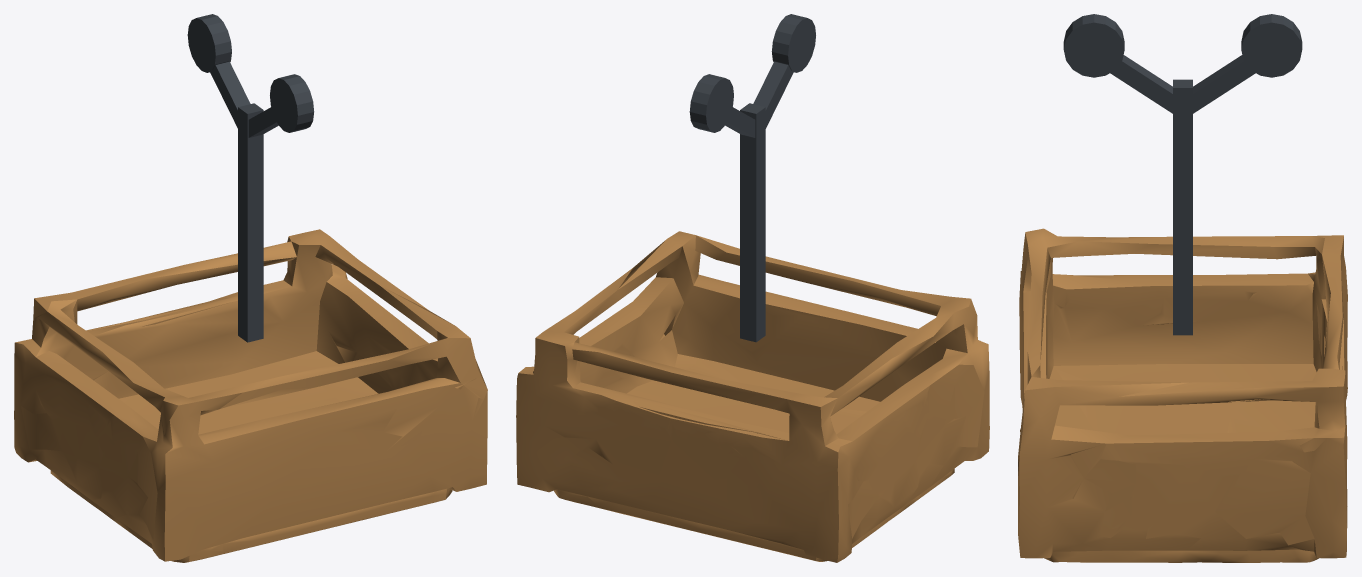
The model's file is PROP_01_game.glb.
The picture shows the model from 3 angles, left to right: view 1: azimuth 30°, elevation 25°; view 2: azimuth 150°, elevation 25°; view 3: azimuth 270°, elevation 25°; orthographic projection. The views are drawn at different scales.
Visible parts, largest first — view 1: PROP_01; view 2: PROP_01; view 3: PROP_01.
Boxes of the visible parts, x1=… form: PROP_01: x1=14, y1=14, x2=487, y2=562; PROP_01: x1=516, y1=14, x2=989, y2=562; PROP_01: x1=1018, y1=14, x2=1347, y2=562.
Bounding box in the file's own units: 3.2 × 4.12 × 2.6.
